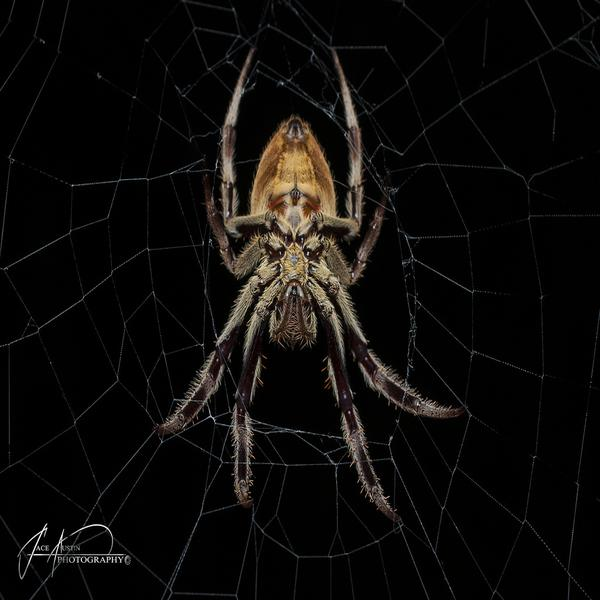Garden Orb Weaver Spider: (172, 47, 458, 514)
